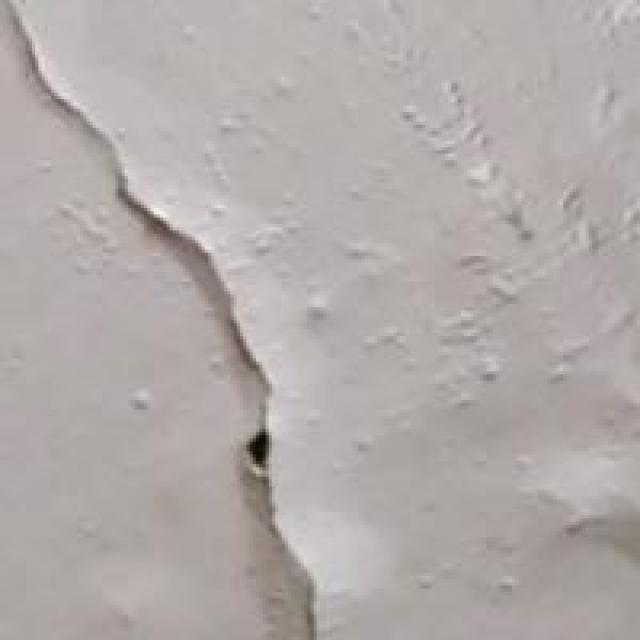crack: (3, 16, 330, 624)
